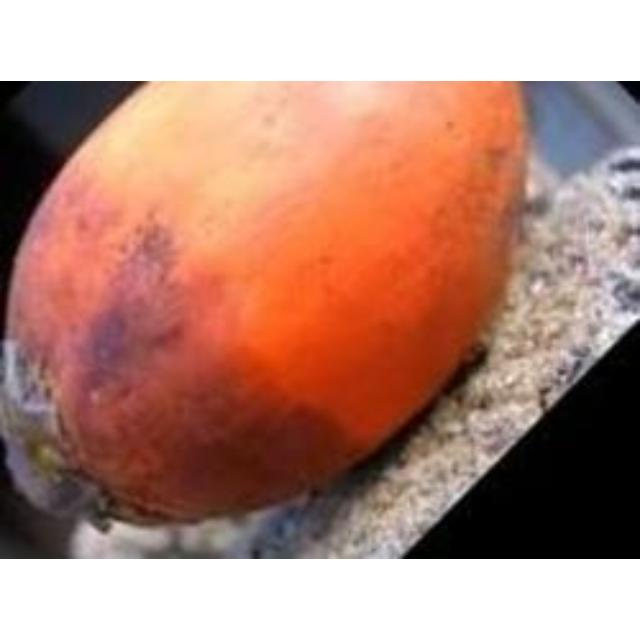good: (3, 81, 527, 526)
